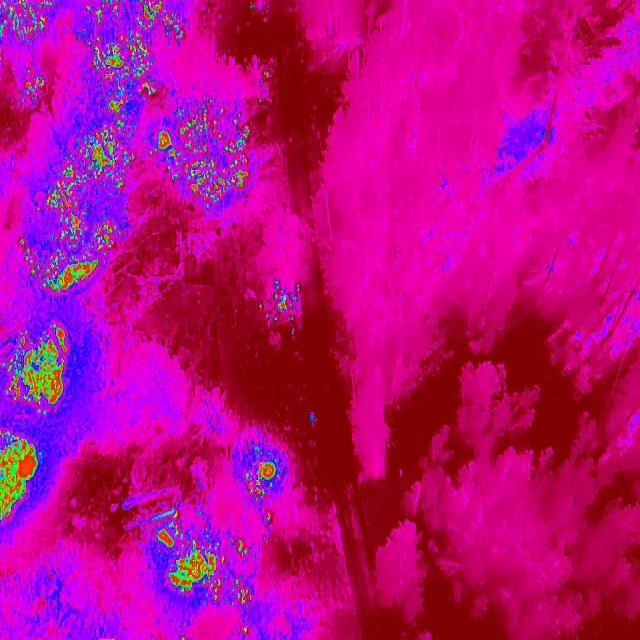fire: (152, 97, 258, 214), (82, 0, 171, 122), (34, 123, 132, 227), (156, 521, 254, 611), (14, 226, 115, 293), (0, 325, 74, 413), (0, 430, 40, 524), (0, 0, 56, 45), (260, 274, 302, 326), (242, 459, 282, 502), (16, 68, 54, 104)
